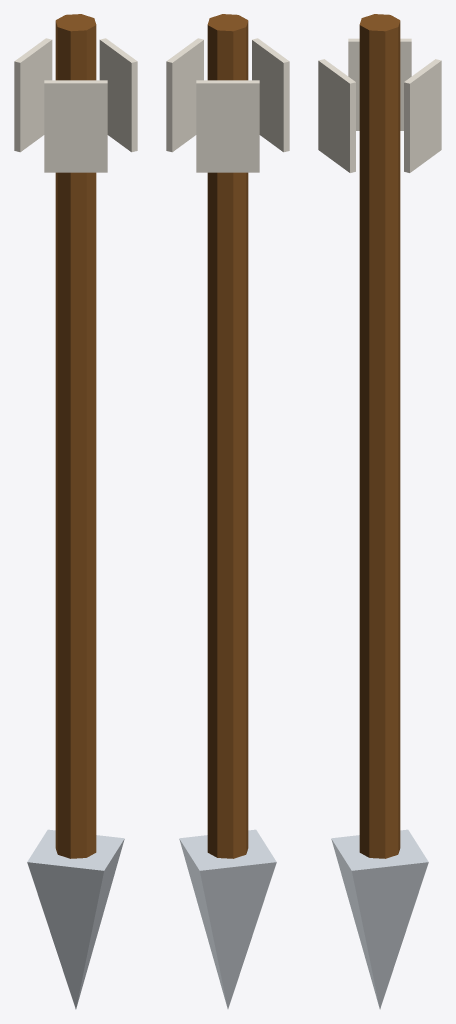
File: arrow.glb
3 views of the same model, side by side, from view 1: azimuth 30°, elevation 25°; view 2: azimuth 150°, elevation 25°; view 3: azimuth 330°, elevation 25° (orthographic).
Visible parts, largest first — view 1: Shaft, Tip, Fletch.002, Fletch, Fletch.001; view 2: Shaft, Tip, Fletch.001, Fletch, Fletch.002; view 3: Shaft, Tip, Fletch, Fletch.002, Fletch.001.
Part boxes in pixels (x1,y1,x2,y2): Shaft: (55,14,96,858); Tip: (27,829,124,1009); Fletch.002: (44,80,107,172); Fletch: (99,38,137,152); Fletch.001: (14,38,52,152); Shaft: (207,14,248,858); Tip: (179,829,276,1008); Fletch.001: (196,80,259,172); Fletch: (166,38,203,152); Fletch.002: (252,38,289,152); Shaft: (359,14,400,858); Tip: (331,829,428,1009); Fletch: (404,59,441,172); Fletch.002: (318,59,355,172); Fletch.001: (348,38,411,130).
Size of the model in its own units: 0.16 by 1.54 by 0.1749.
